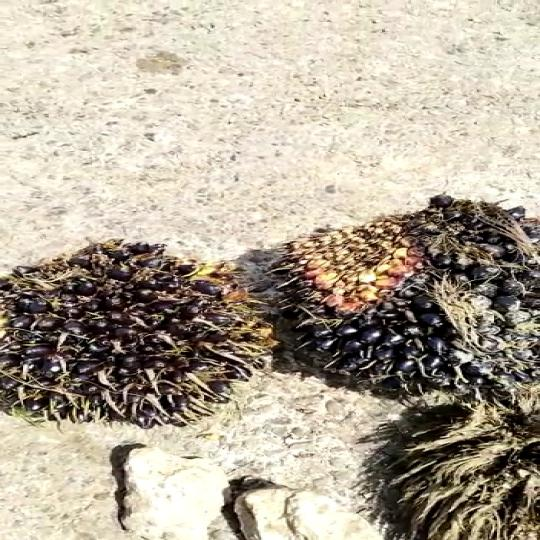mentah: (0, 201, 273, 431), (253, 186, 540, 378)
